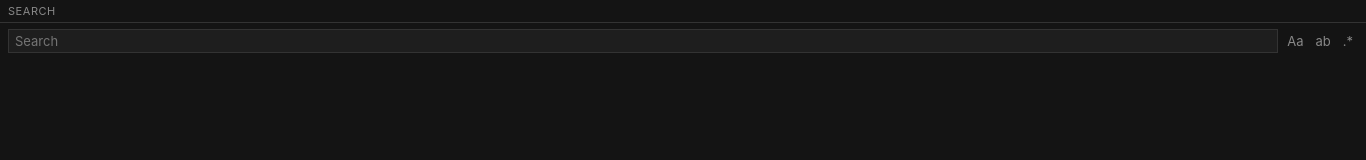
Test: SearchView › ignores an in-flight search's late response after the query is cleared
The image size is (1366, 160).
Type "foo" into the field named "検索" at (643, 41), box [8,29,1278,53]
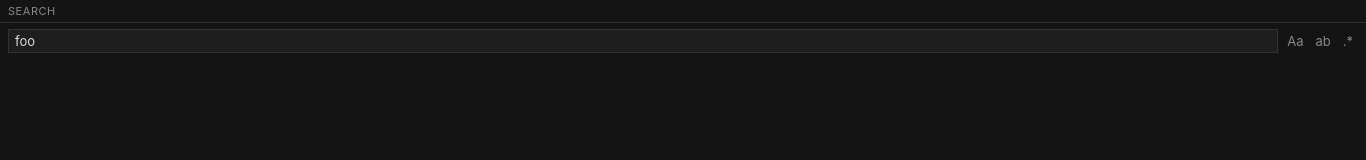
Press Enter in the field named "検索", box [8,29,1278,53]
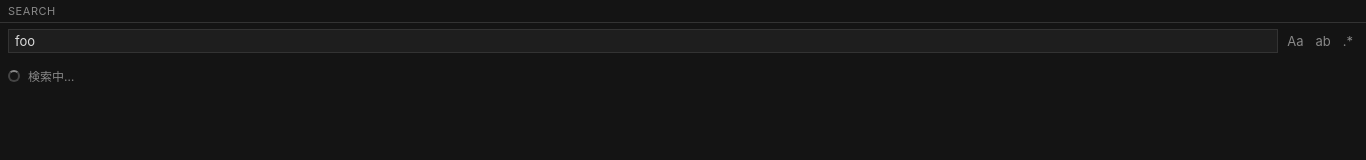
Clear the field named "検索" at (643, 41), box [8,29,1278,53]
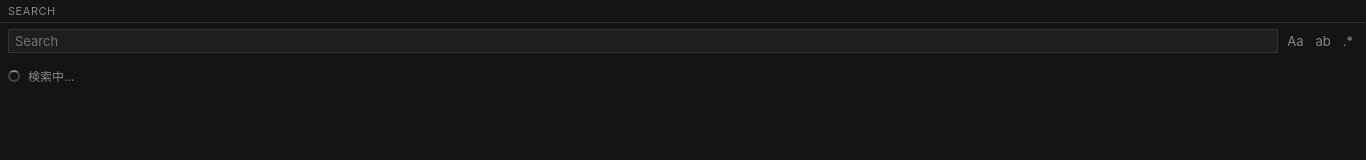
Press Enter in the field named "検索", box [8,29,1278,53]
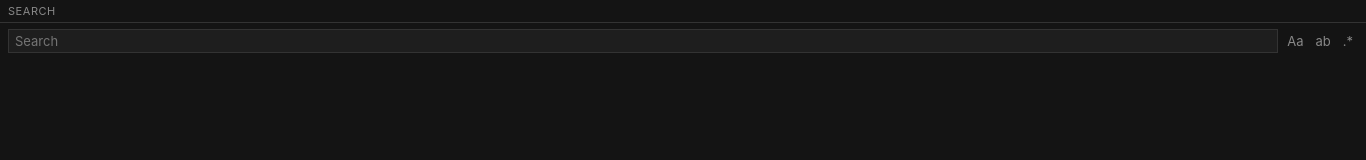
Expected: the message "検索中…" is gone
